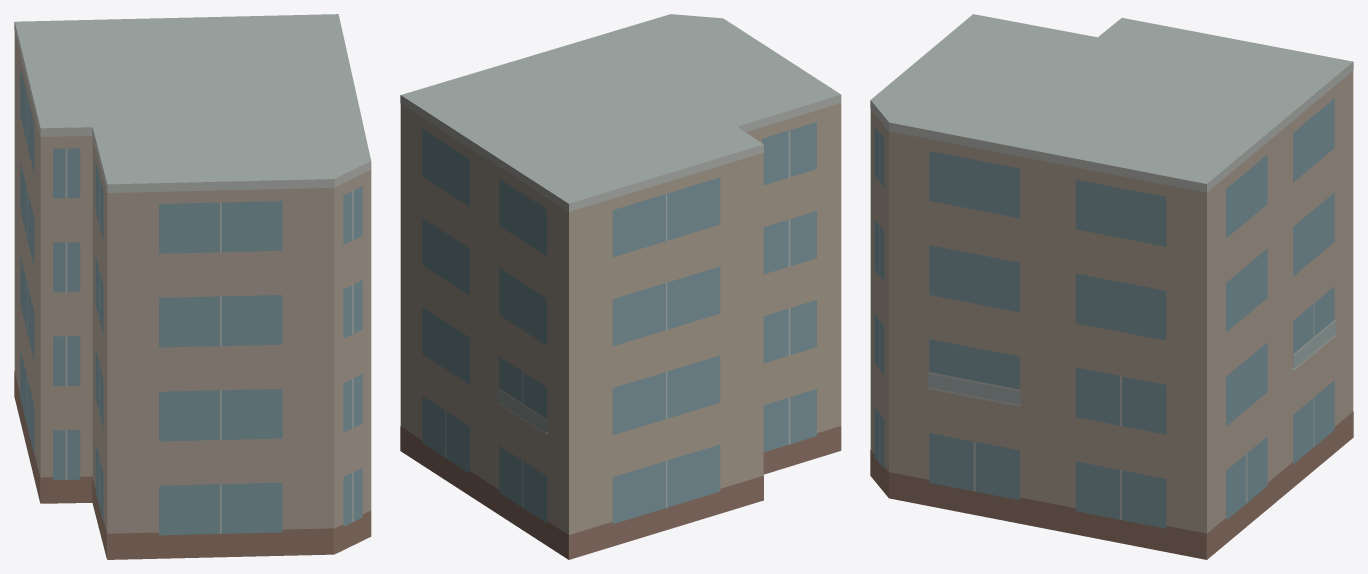
File: survey-upis-32986107.glb
3 renders of one model, left to right at view 1: azimuth 30°, elevation 25°; view 2: azimuth 150°, elevation 25°; view 3: azimuth 270°, elevation 25°, orthographic. The views are drawn at different scales.
Parts seen in each view (by area): view 1: survey-upis-32986107.tmp; view 2: survey-upis-32986107.tmp; view 3: survey-upis-32986107.tmp.
Part boxes in pixels (<box>): survey-upis-32986107.tmp: <box>14,14,371,559</box>; survey-upis-32986107.tmp: <box>400,14,841,559</box>; survey-upis-32986107.tmp: <box>870,14,1353,559</box>.
Bounding box in the file's own units: 10.25 × 10.55 × 12.3.
